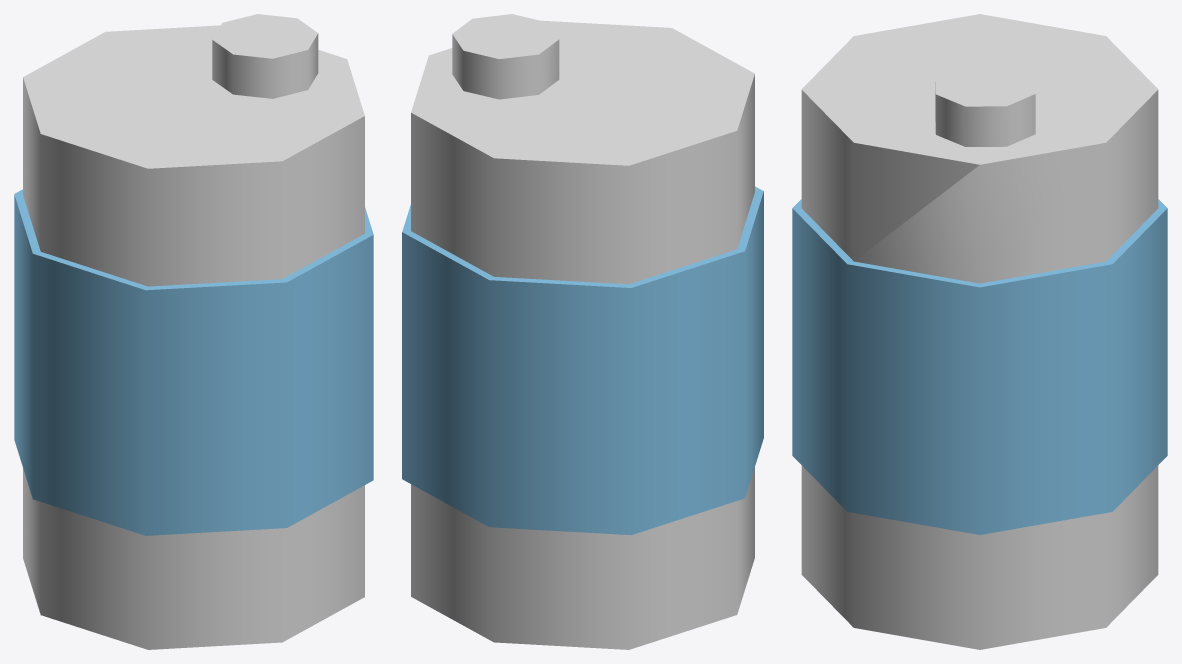
Rendered from Barrel.FBX.
3 views of the same model, side by side, from view 1: azimuth 30°, elevation 25°; view 2: azimuth 150°, elevation 25°; view 3: azimuth 270°, elevation 25° (orthographic).
Parts seen in each view (by area): view 1: Barrel; view 2: Barrel; view 3: Barrel.
Part boxes in pixels (x1,y1,x2,y2): Barrel: [14, 14, 373, 649]; Barrel: [402, 14, 763, 649]; Barrel: [792, 14, 1167, 649].
Size of the model in its own units: 210 by 325 by 210.
